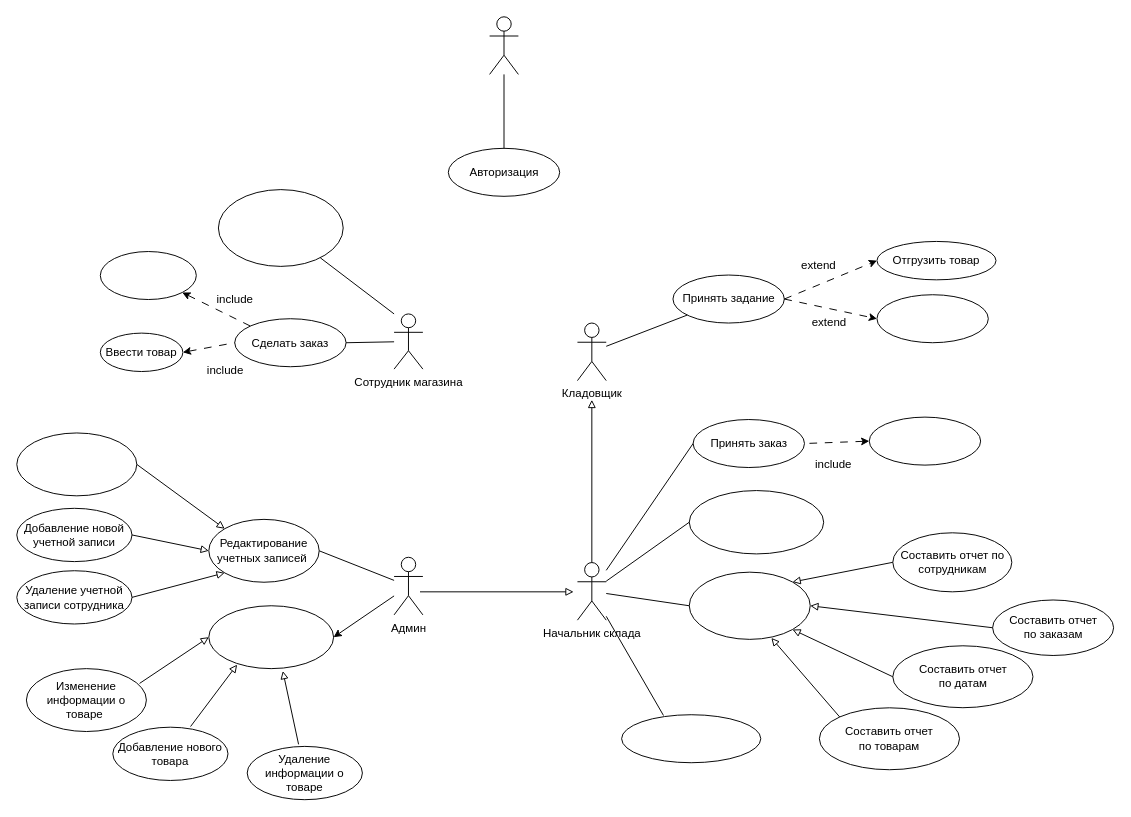
Some shapes in this 1131 by 817 pixel diagram are drawn without their labels. Here are the shapes that lost their labels. From the top down, the centre of each, then its label:
At (503,45): "Неавторизованный пользователь".
At (280,227): "Посмотреть список предыдущих заказов".
At (147,275): "Ввести количество товара".
At (932,318): "Сообщить о проблеме".
At (924,440): "Назначить задачу кладовщику".
At (76,464): "Изменения учетной записи сотрудника".
At (756,522): "Ввести количество поступившего товара".
At (749,605): "Составить отчет по выбранным категориям".
At (271,637): "Редактирование списка товаров".
At (691,738): "Посмотреть остатки товаров на складе".
